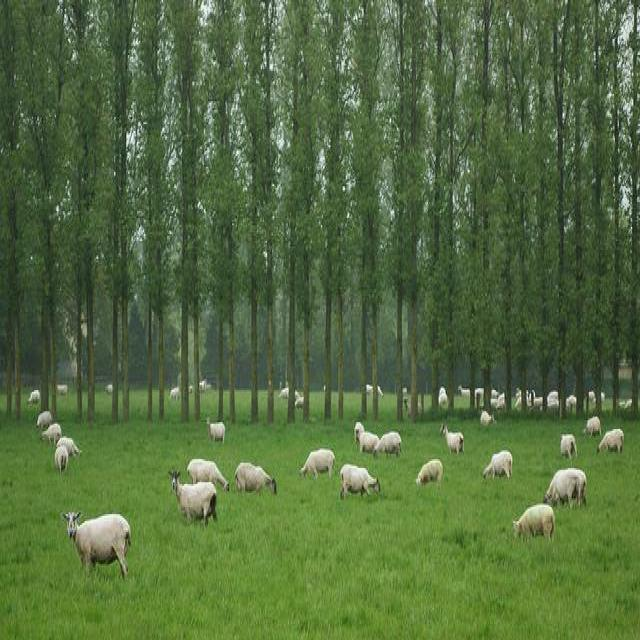Sheep: (27, 374, 632, 543), (60, 510, 132, 580)
